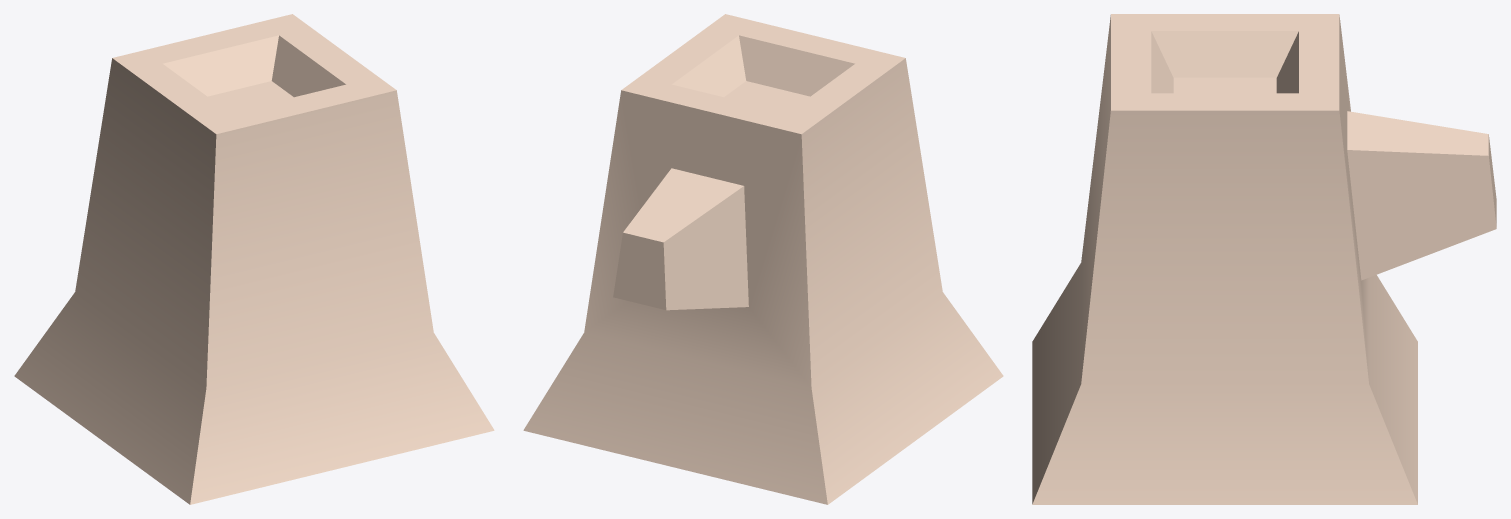
File: treeStump_side.fbx
The picture shows the model from 3 angles, left to right: view 1: azimuth 30°, elevation 25°; view 2: azimuth 150°, elevation 25°; view 3: azimuth 270°, elevation 25°; orthographic projection. The views are drawn at different scales.
Visible parts, largest first — view 1: treeStump_side; view 2: treeStump_side; view 3: treeStump_side.
Boxes of the visible parts, left/top/right/bottom form: treeStump_side: left=14, top=14, right=494, bottom=504; treeStump_side: left=523, top=14, right=1003, bottom=504; treeStump_side: left=1032, top=14, right=1496, bottom=504.
Size of the model in its own units: 84.39 by 87.15 by 102.
